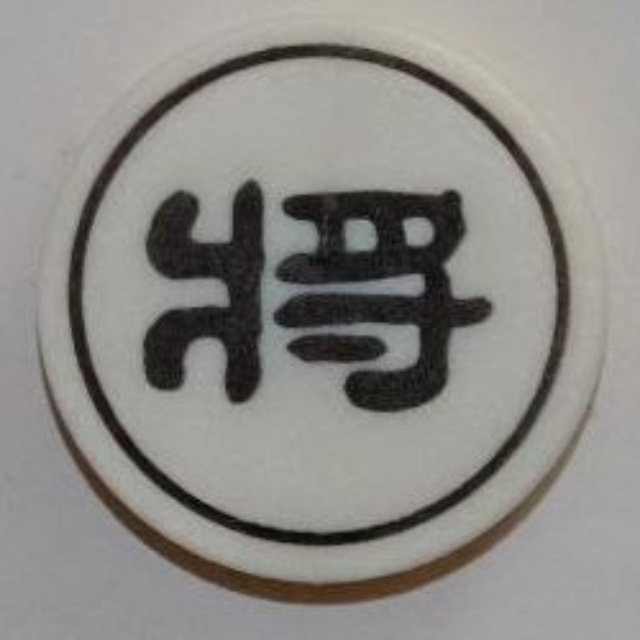black_tuong: (35, 22, 618, 603)
